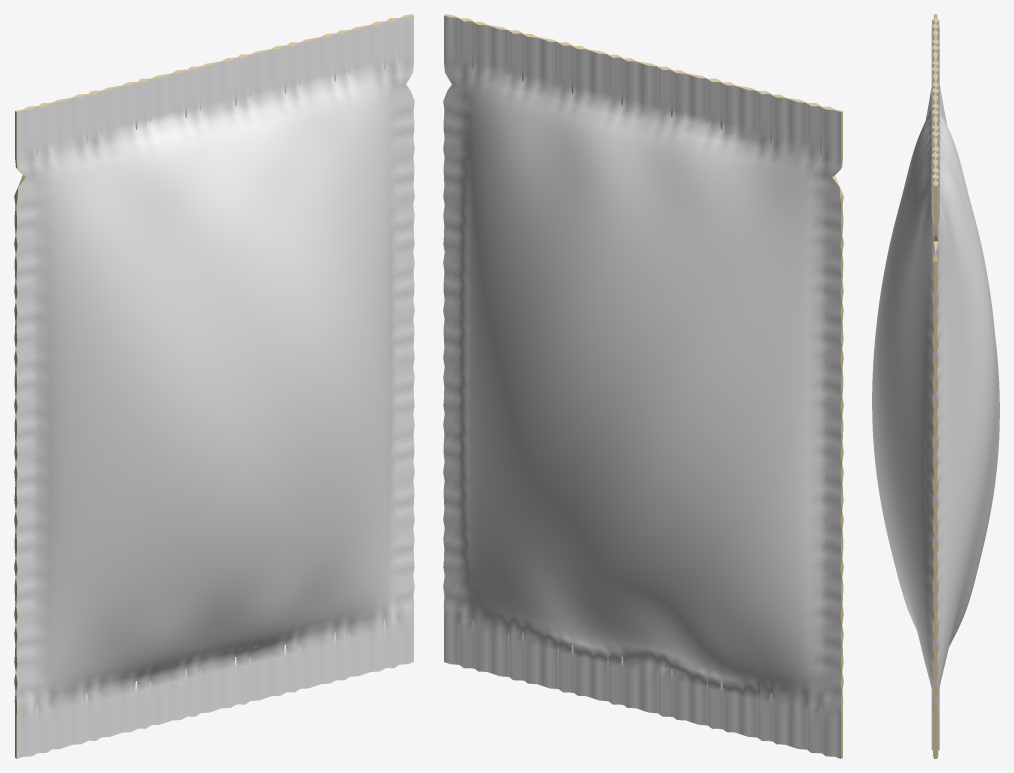
The model's file is sachet_30g.glb.
3 views of the same model, side by side, from view 1: azimuth 30°, elevation 25°; view 2: azimuth 150°, elevation 25°; view 3: azimuth 270°, elevation 25° (orthographic). The views are drawn at different scales.
Parts seen in each view (by area): view 1: FrontSurface, BackSurface, FoilSealRim; view 2: BackSurface, FrontSurface, FoilSealRim; view 3: BackSurface, FrontSurface, FoilSealRim.
Boxes of the visible parts, box(x1,y1,x2,y2) form: FrontSurface: box(16, 15, 414, 758); BackSurface: box(35, 18, 399, 753); FoilSealRim: box(14, 14, 413, 758); BackSurface: box(443, 15, 841, 758); FrontSurface: box(458, 18, 822, 753); FoilSealRim: box(444, 14, 843, 758); BackSurface: box(936, 15, 999, 758); FrontSurface: box(872, 14, 936, 757); FoilSealRim: box(932, 14, 939, 758).
Size of the model in its own units: 0.45 by 0.7 by 0.1415.
